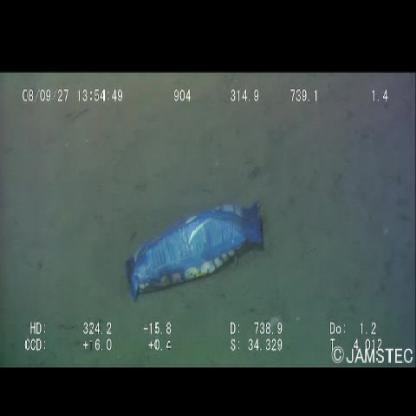Rác: (114, 188, 280, 308)
